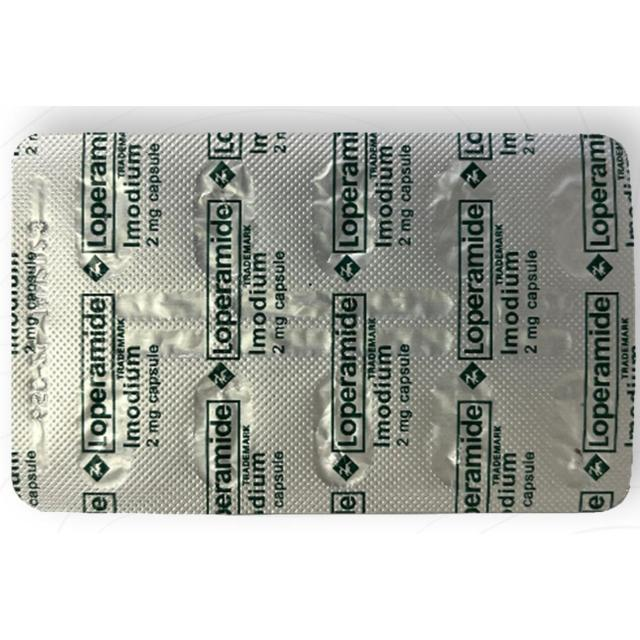blister: (7, 129, 635, 511)
